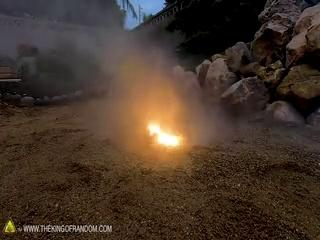Fire: (143, 116, 187, 151)
